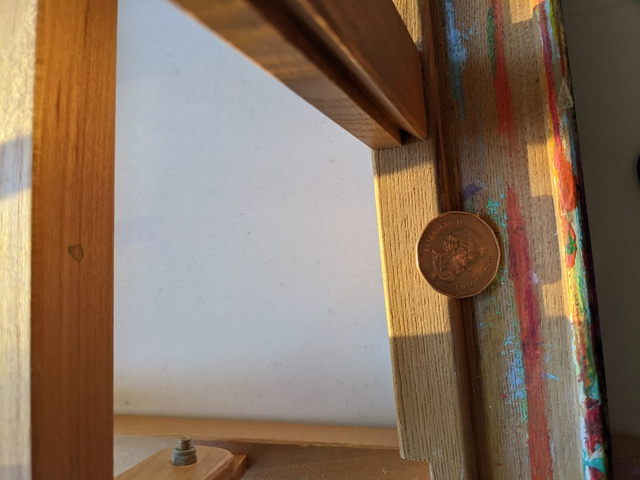loonie: (407, 201, 515, 308)
